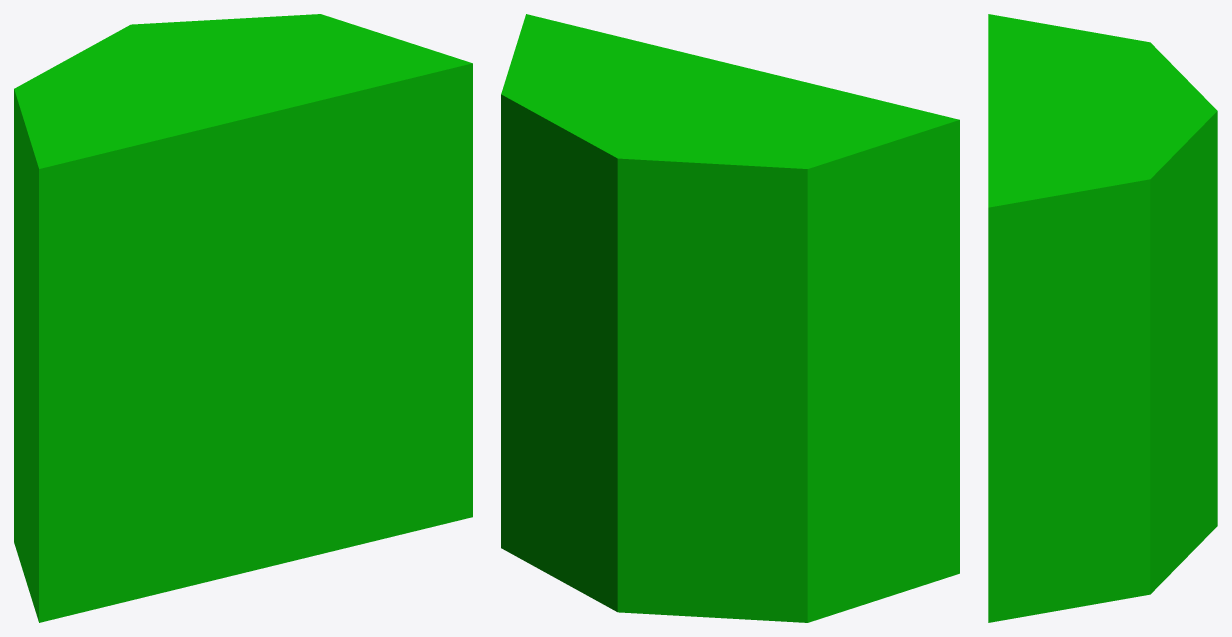
Rendered from UCXHalfCylinder_low.fbx.
3 views of the same model, side by side, from view 1: azimuth 30°, elevation 25°; view 2: azimuth 150°, elevation 25°; view 3: azimuth 270°, elevation 25° (orthographic). The views are drawn at different scales.
Parts seen in each view (by area): view 1: UCX_HalfCylinder_low_00; view 2: UCX_HalfCylinder_low_00; view 3: UCX_HalfCylinder_low_00.
Part boxes in pixels (x1,y1,x2,y2): UCX_HalfCylinder_low_00: [14, 14, 472, 622]; UCX_HalfCylinder_low_00: [501, 14, 959, 622]; UCX_HalfCylinder_low_00: [988, 14, 1217, 622].
Bounding box in the file's own units: 0.045 × 0.045 × 0.0225.
